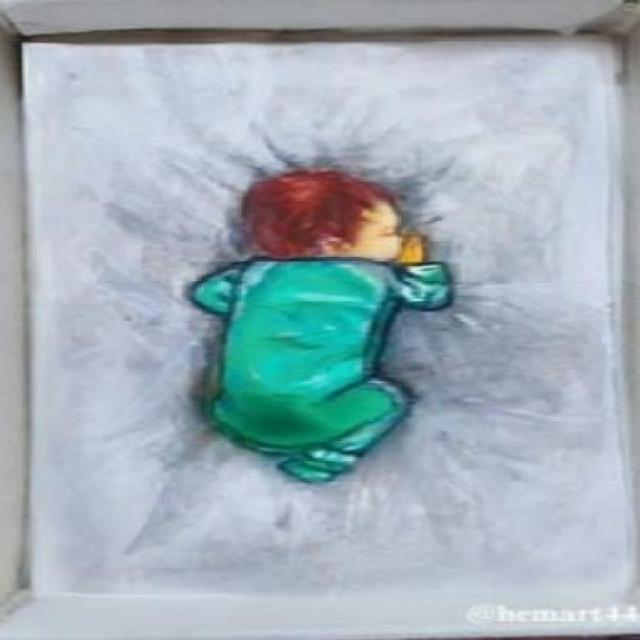child: (182, 166, 456, 483)
